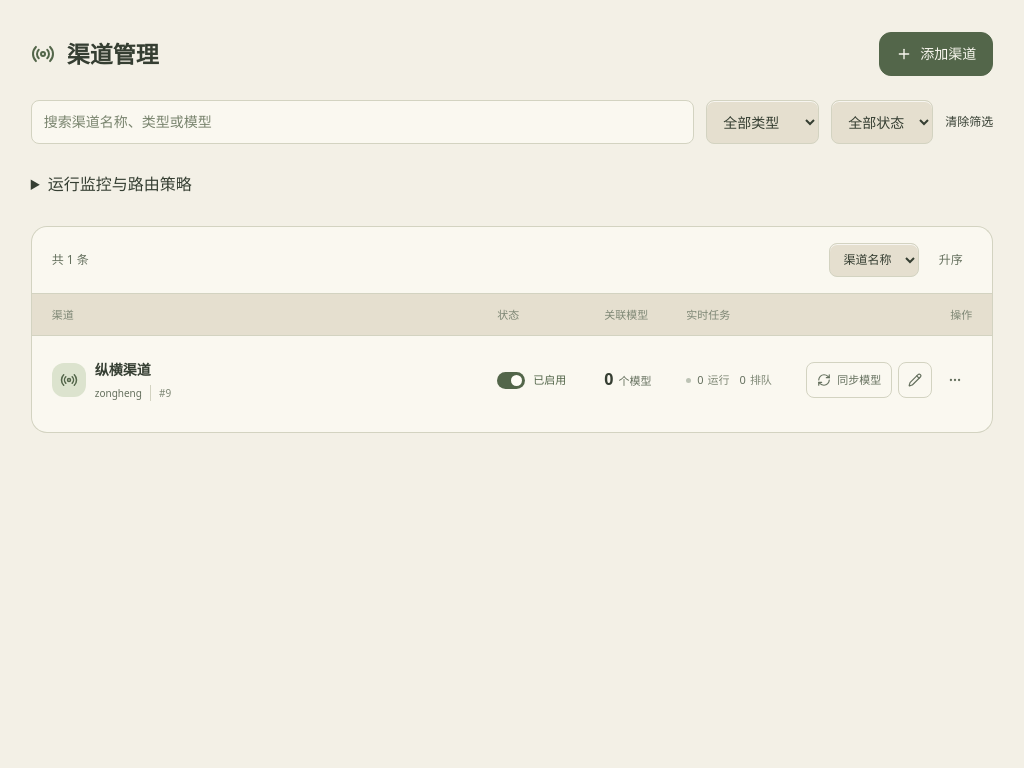
Test: channel details and model sync workflow › uses an in-page confirmation and cancellation never sends a delete request
Step 1. Click the heading named "纵横渠道更多操作" → (955, 380), box x1=948 y1=373 x2=962 y2=387
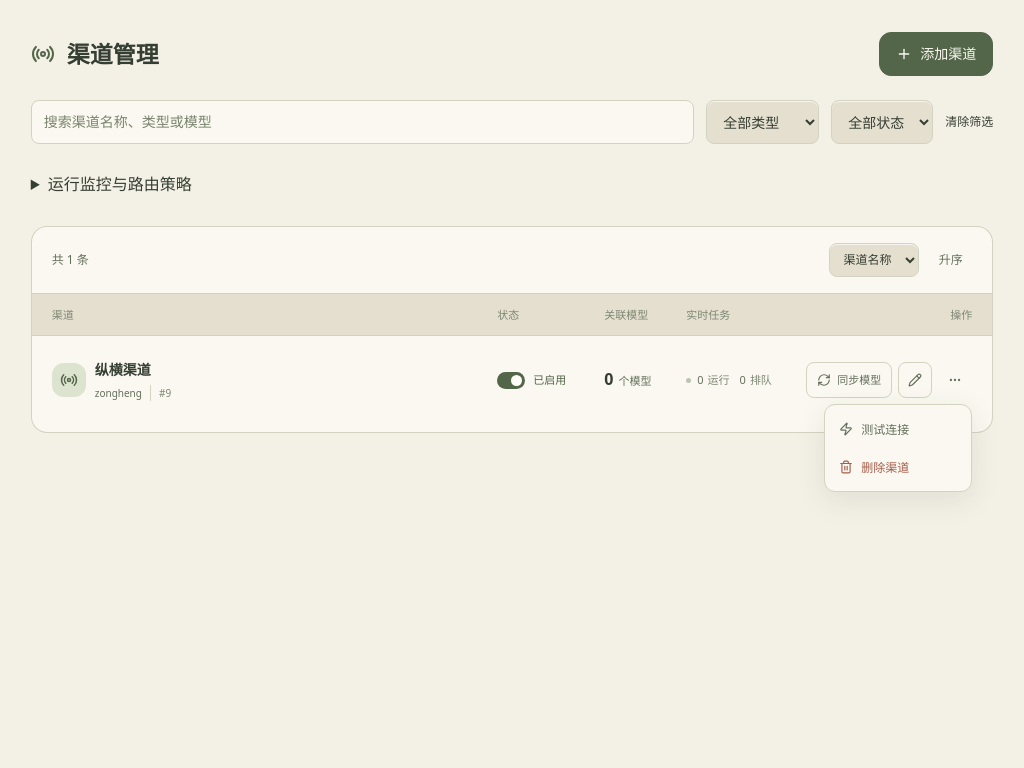
Step 2. Click the button "删除渠道" → (898, 467), box x1=830 y1=448 x2=966 y2=486
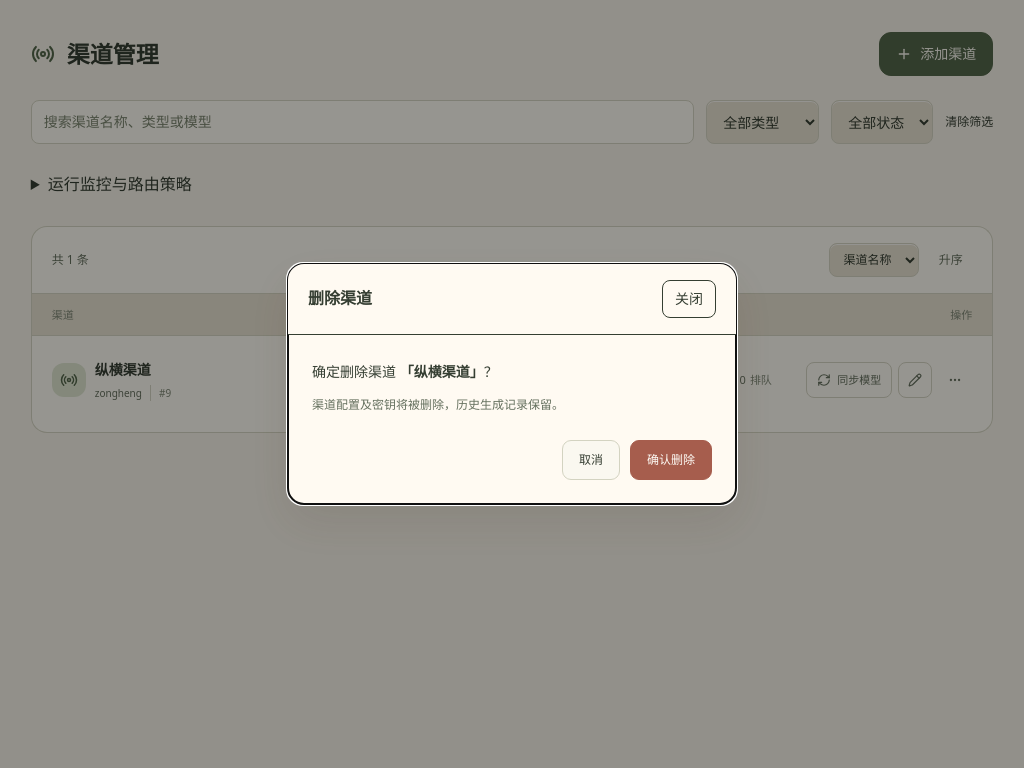
expect the text "「纵横渠道」" is shown: met, box x1=400 y1=362 x2=484 y2=381
Step 3. Click the button "取消" → (591, 460), box x1=562 y1=440 x2=620 y2=480
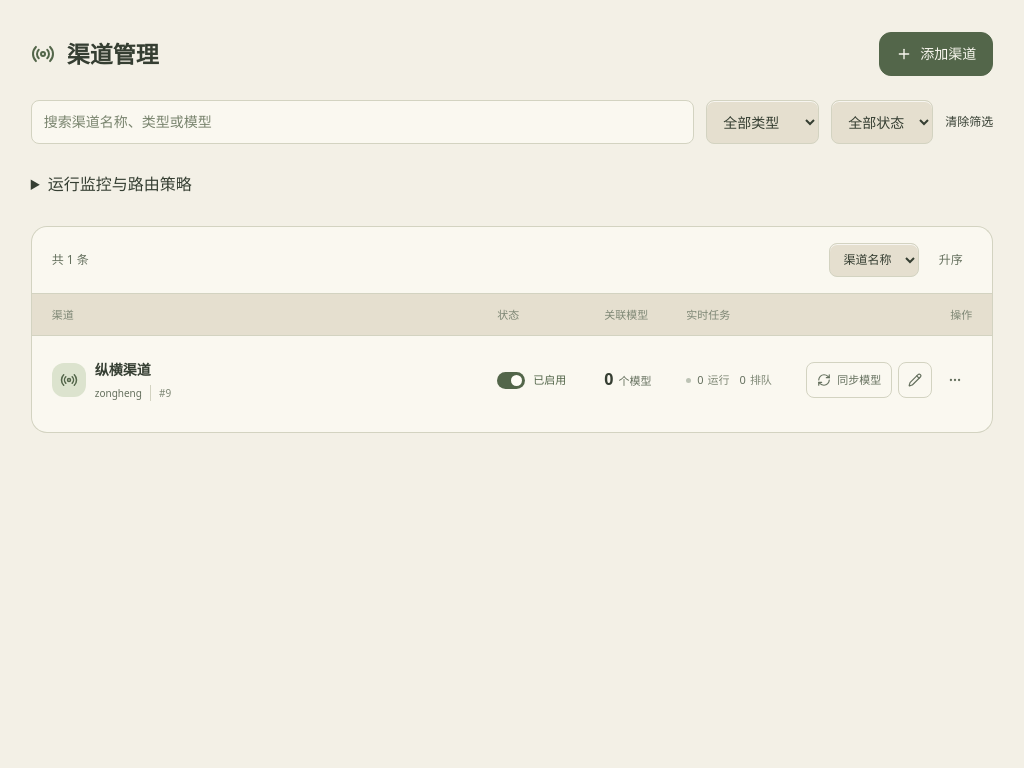
expect the dialog is gone: met
